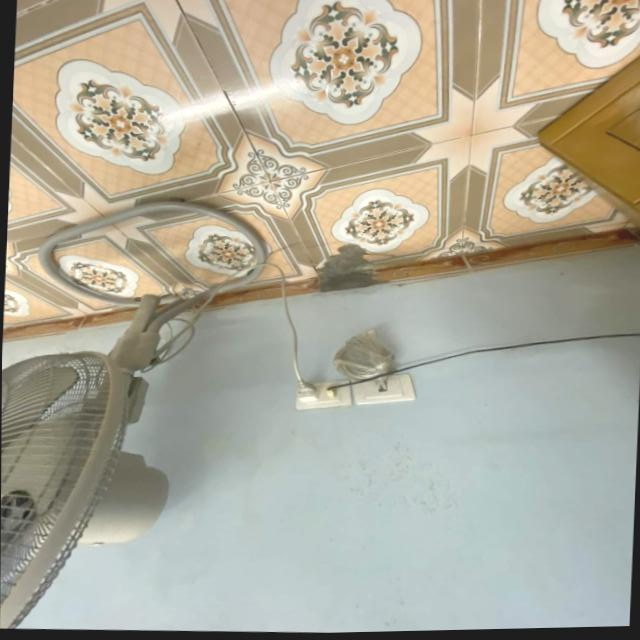outlet: (350, 372, 416, 407), (294, 378, 352, 413)
